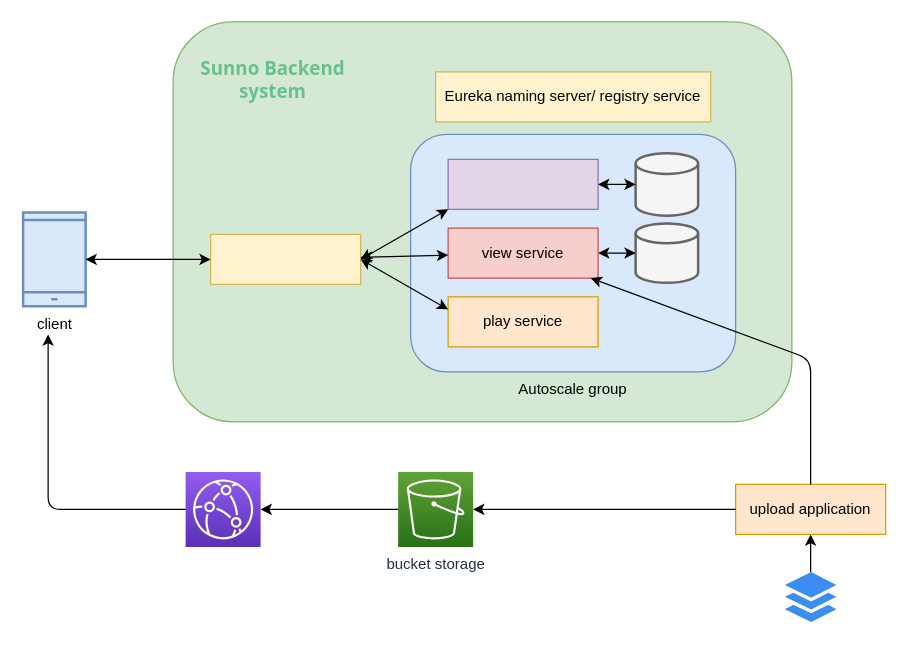
The diagram is 908 pixels wide and 670 high, and some of its shapes have lost their labels. Here are the shapes that lost their labels. From the top down, the centre of each, then its label:
At (x=522, y=183): "account service".
At (x=285, y=258): "Zuul Api gateway".
At (x=222, y=509): "CDN".
At (x=810, y=596): "music files".
